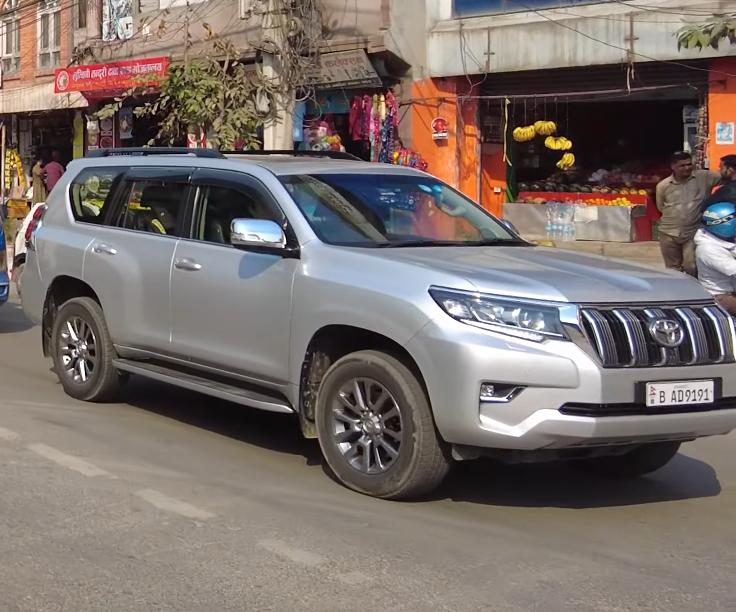SUV: (24, 134, 736, 505)
